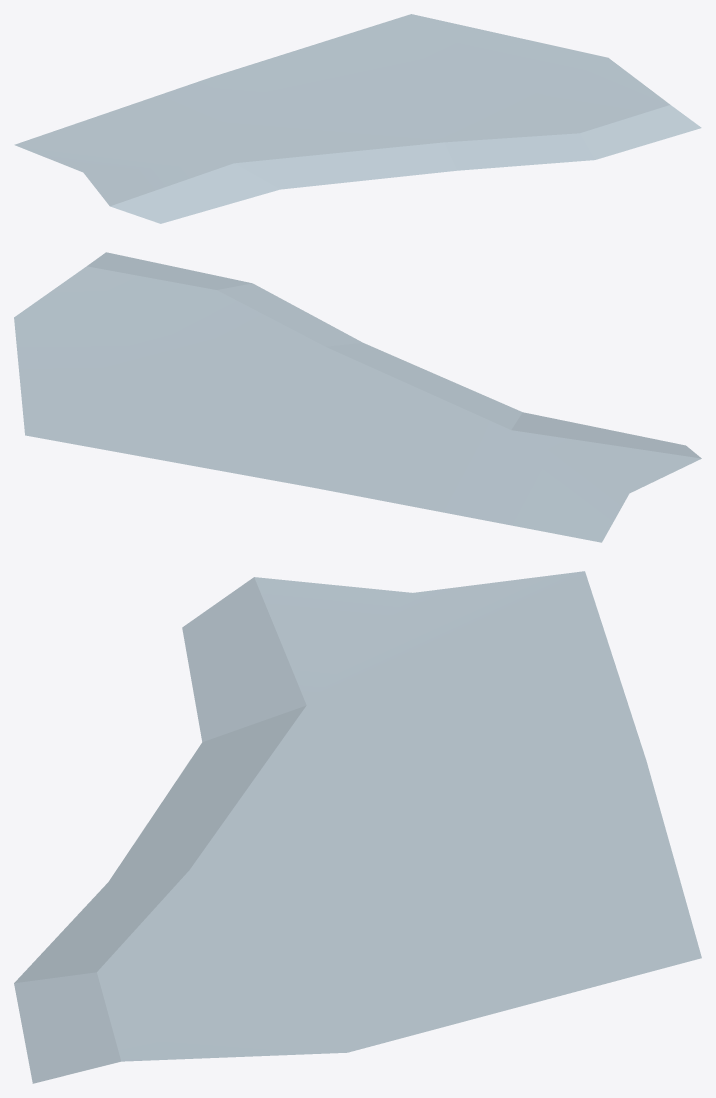
File: nieve6.fbx
3 renders of one model, top to bottom at view 1: azimuth 30°, elevation 25°; view 2: azimuth 150°, elevation 25°; view 3: azimuth 270°, elevation 25°, orthographic. The views are drawn at different scales.
Parts seen in each view (by area): view 1: Cylinder002; view 2: Cylinder002; view 3: Cylinder002.
Part boxes in pixels (x1,y1,x2,y2): Cylinder002: (14, 14, 701, 223); Cylinder002: (14, 252, 701, 542); Cylinder002: (14, 571, 701, 1083).
Size of the model in its own units: 60.82 by 1.52 by 35.52.
